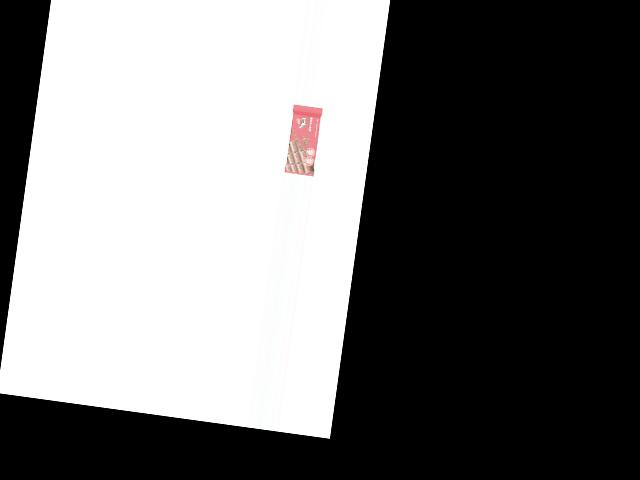chocolate: (284, 103, 323, 176)
